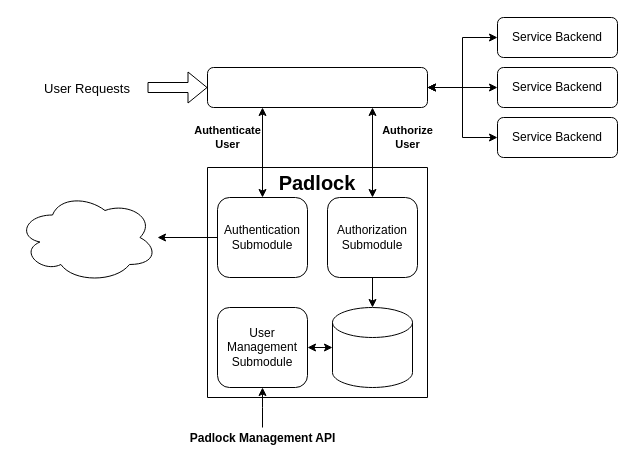
Image size: 635x463. Some labels were removed from this diagram. The shapes that lost their labels are listed below. From the top down, each one's centre as x and y in pixels, then its label:
At point 317,87: "REST API Gateway".
At point 87,237: "Oauth2 / OpenID Provider".
At point 372,347: "User Database".
